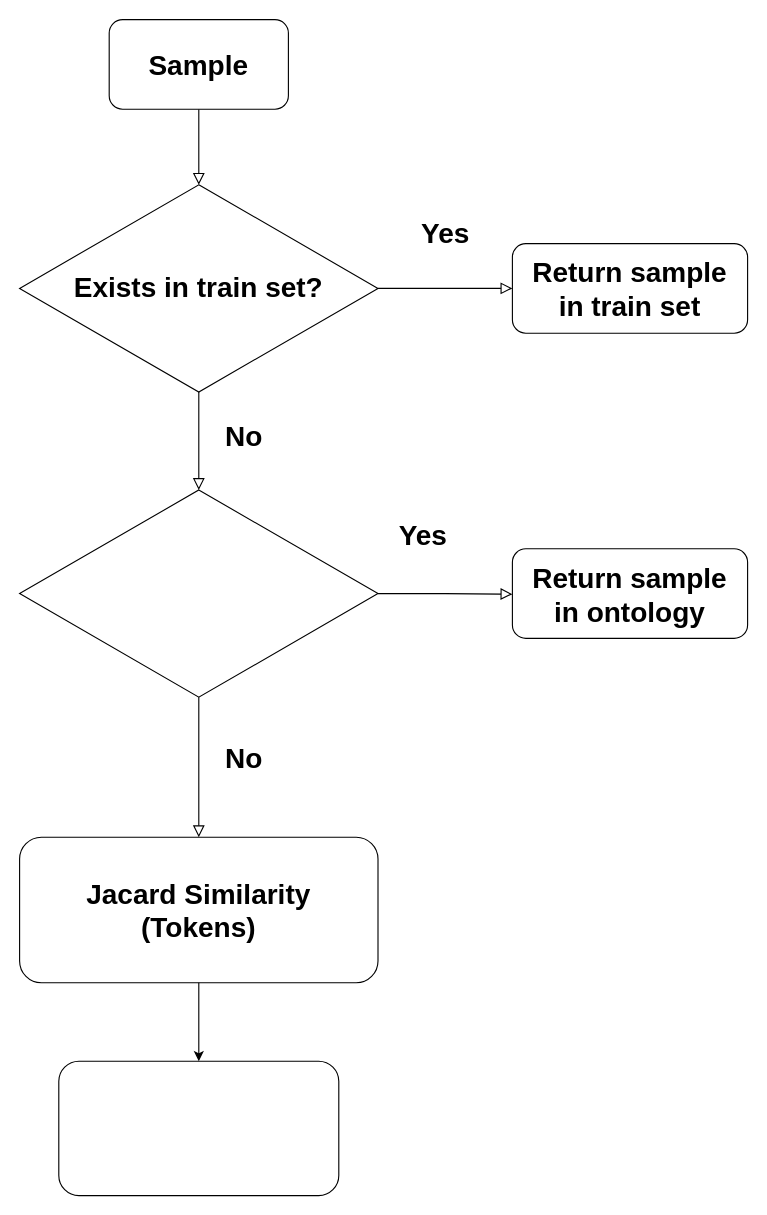
The diagram is 767 pixels wide and 1215 high, and some of its shapes have lost their labels. The box of each missing label's shape, as (x1, y1, x2, y2) in pixels:
Exists in ontology?: (18, 489, 378, 697)
Most Similar Term: (58, 1060, 339, 1196)
